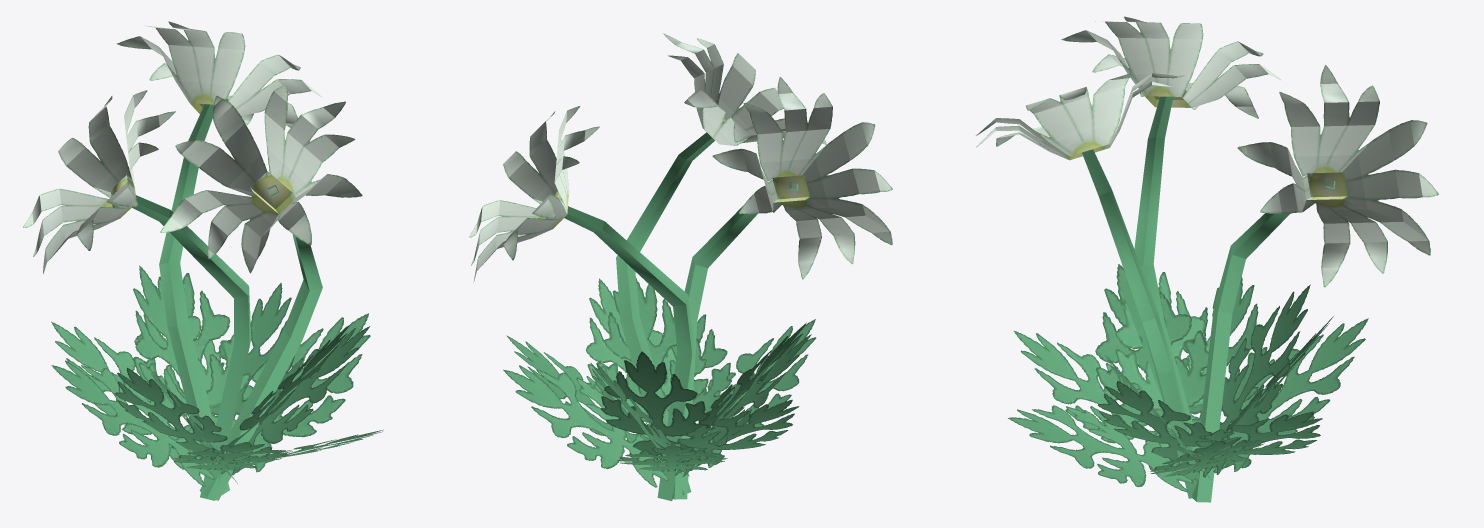
File: FlannelFlower_Hand.fbx
3 renders of one model, left to right at view 1: azimuth 30°, elevation 25°; view 2: azimuth 150°, elevation 25°; view 3: azimuth 270°, elevation 25°, orthographic. The views are drawn at different scales.
Parts seen in each view (by area): view 1: Leaves (3), Leaves (1), Leaves (2); view 2: Leaves (1), Leaves (2), Leaves (3); view 3: Leaves (2), Leaves (3), Leaves (1).
Boxes of the visible parts, x1,y1,x2,y2 form: Leaves (3): [133, 85, 383, 500]; Leaves (1): [23, 90, 369, 500]; Leaves (2): [51, 21, 350, 495]; Leaves (1): [585, 77, 892, 499]; Leaves (2): [469, 106, 811, 501]; Leaves (3): [506, 33, 826, 494]; Leaves (2): [1104, 65, 1438, 502]; Leaves (3): [976, 73, 1310, 498]; Leaves (1): [1013, 16, 1333, 468].
Size of the model in its own units: 1.32 by 1.39 by 1.38.
1 material, 1 textured.
